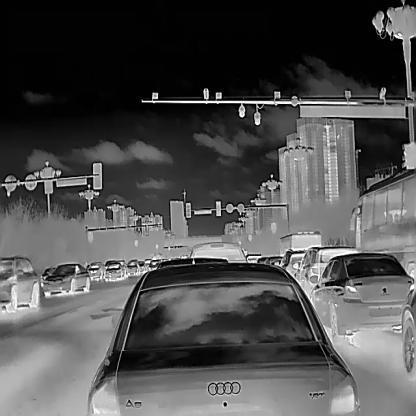car: (85, 259, 360, 415), (307, 250, 414, 346), (347, 163, 415, 281), (293, 242, 358, 297), (0, 253, 38, 312), (40, 259, 90, 297), (276, 228, 320, 259), (401, 282, 415, 377), (189, 241, 247, 262), (272, 247, 308, 276), (86, 260, 106, 281), (104, 261, 127, 279), (40, 265, 58, 288), (126, 257, 141, 276), (257, 255, 282, 265), (146, 258, 161, 270), (246, 253, 261, 261), (137, 259, 146, 272)
